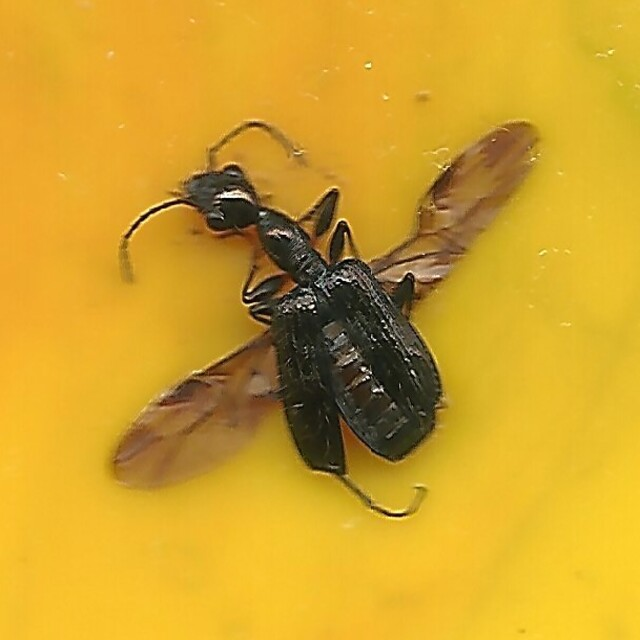Coleoptera: (105, 119, 535, 521)
